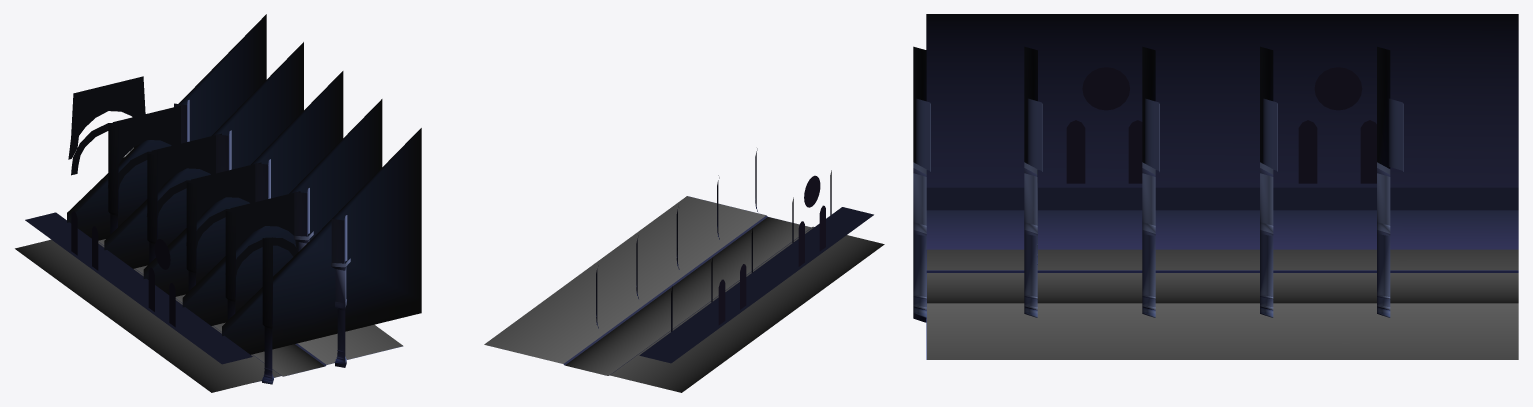
File: NPBossLOD.gltf
3 renders of one model, left to right at view 1: azimuth 30°, elevation 25°; view 2: azimuth 150°, elevation 25°; view 3: azimuth 270°, elevation 25°, orthographic. The views are drawn at different scales.
Parts seen in each view (by area): view 1: stg073_k2_Mesh_0000, stg073_low_o_Mesh_0005, stg073_w_Mesh_0001, stg073_low_o_Mesh_0003, stg073_low_o_Mesh_0001, stg073_low_o_Mesh_0004, stg073_low_p_Mesh_0000, stg073_w_Mesh_0000, stg073_low_o_Mesh_0008; view 2: stg073_w_Mesh_0001, stg073_w_Mesh_0000, stg073_low_o_Mesh_0001, stg073_low_p_Mesh_0000, stg073_low_o_Mesh_0008; view 3: stg073_low_o_Mesh_0009, stg073_w_Mesh_0001, stg073_w_Mesh_0000, stg073_low_o_Mesh_0001, stg073_low_o_Mesh_0003, stg073_low_p_Mesh_0000, stg073_low_o_Mesh_0008, stg073_low_o_Mesh_0005, stg073_low_o_Mesh_0004, stg073_low_o_Mesh_0010.
Boxes of the visible parts, x1,y1,x2,y2 form: stg073_k2_Mesh_0000: (67,14,421,354); stg073_low_o_Mesh_0005: (71,76,346,351); stg073_w_Mesh_0001: (15,239,403,392); stg073_low_o_Mesh_0003: (108,100,347,328); stg073_low_o_Mesh_0001: (25,212,402,382); stg073_low_o_Mesh_0004: (68,116,346,381); stg073_low_p_Mesh_0000: (71,211,175,327); stg073_w_Mesh_0000: (98,239,324,376); stg073_low_o_Mesh_0008: (110,214,345,369); stg073_w_Mesh_0001: (484,196,884,392); stg073_w_Mesh_0000: (565,217,810,375); stg073_low_o_Mesh_0001: (563,196,873,375); stg073_low_p_Mesh_0000: (718,175,825,325); stg073_low_o_Mesh_0008: (596,154,831,331); stg073_low_o_Mesh_0009: (926,14,1518,249); stg073_w_Mesh_0001: (927,249,1518,359); stg073_w_Mesh_0000: (927,273,1518,303); stg073_low_o_Mesh_0001: (926,187,1518,359); stg073_low_o_Mesh_0003: (913,46,1403,182); stg073_low_p_Mesh_0000: (1066,67,1376,183); stg073_low_o_Mesh_0008: (913,183,1390,294); stg073_low_o_Mesh_0005: (913,173,1390,296); stg073_low_o_Mesh_0004: (913,222,1390,317); stg073_low_o_Mesh_0010: (913,246,1390,307).
Size of the model in its own units: 61.44 by 46.65 by 90.
